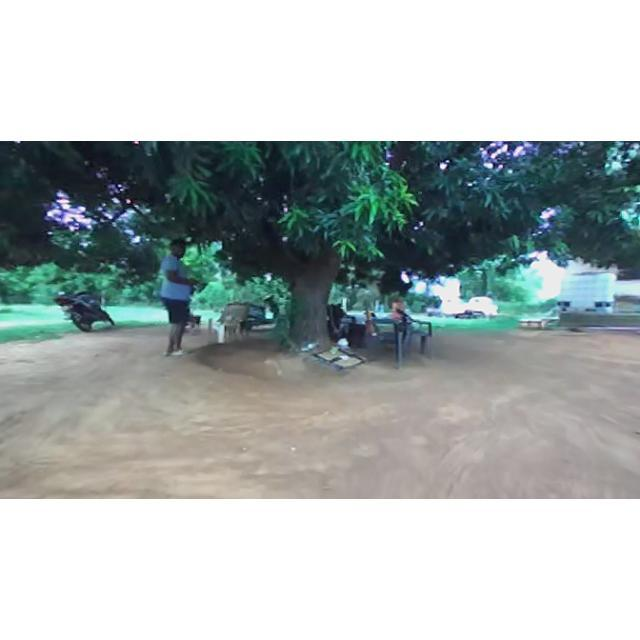direk: (1, 142, 640, 362)
